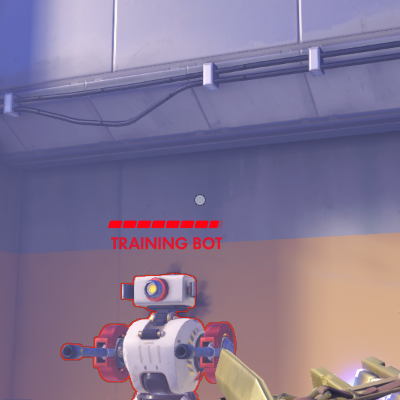hpbar: (107, 220, 224, 229)
